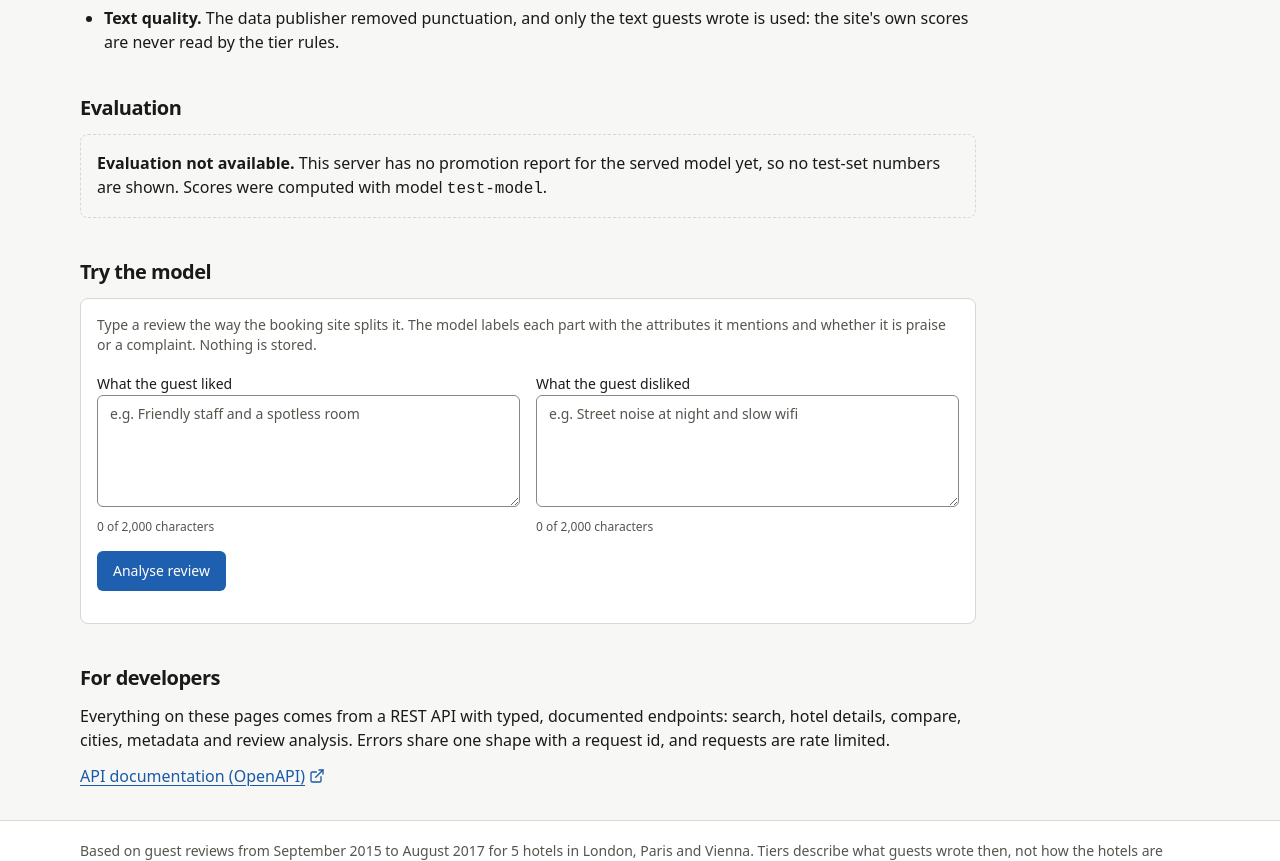
Test: Try the model › says no model is loaded on 503
(page scrolled)
Type "Nice staff" into the text box labelled "What the guest liked" at point(308, 450), box [97,394,520,506]
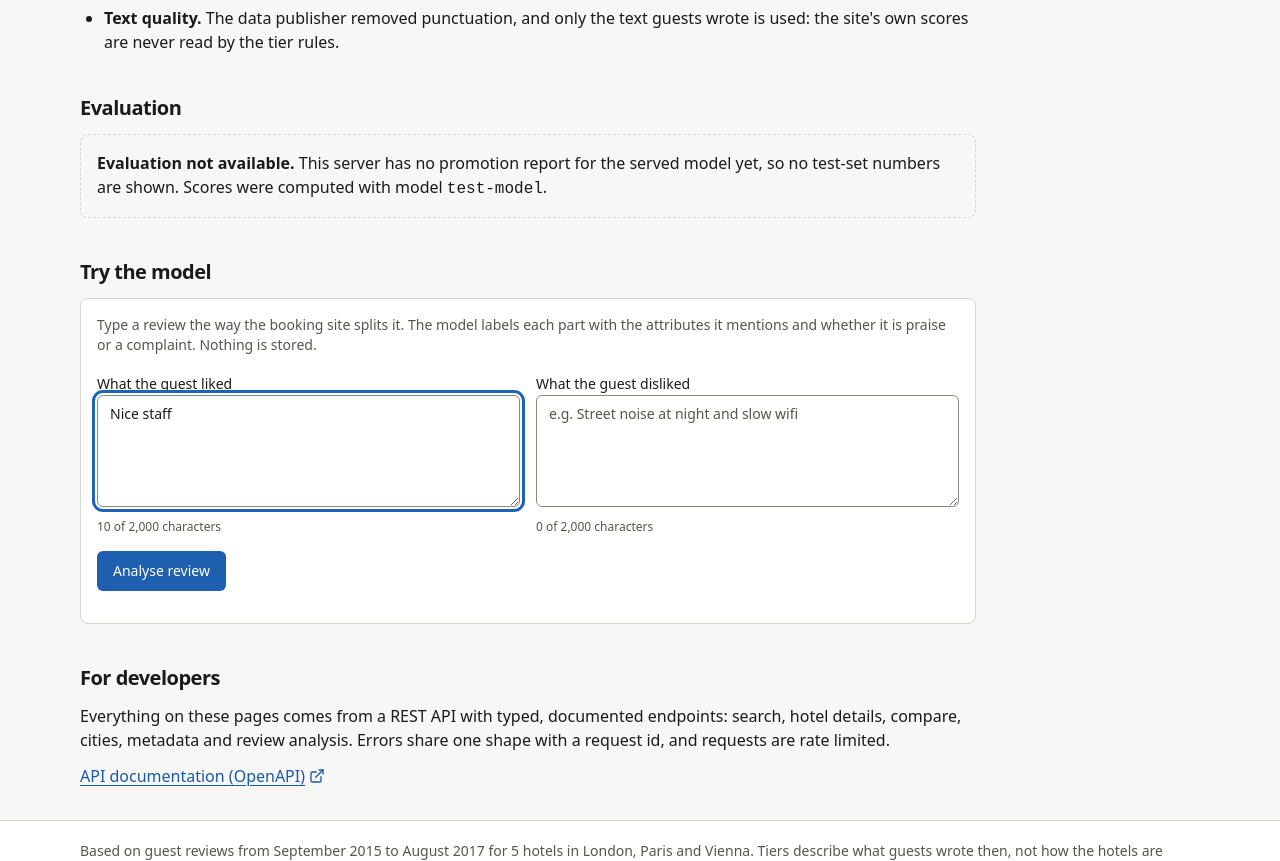
Click the button "Analyse review" at point(161, 570), box [97,550,226,590]
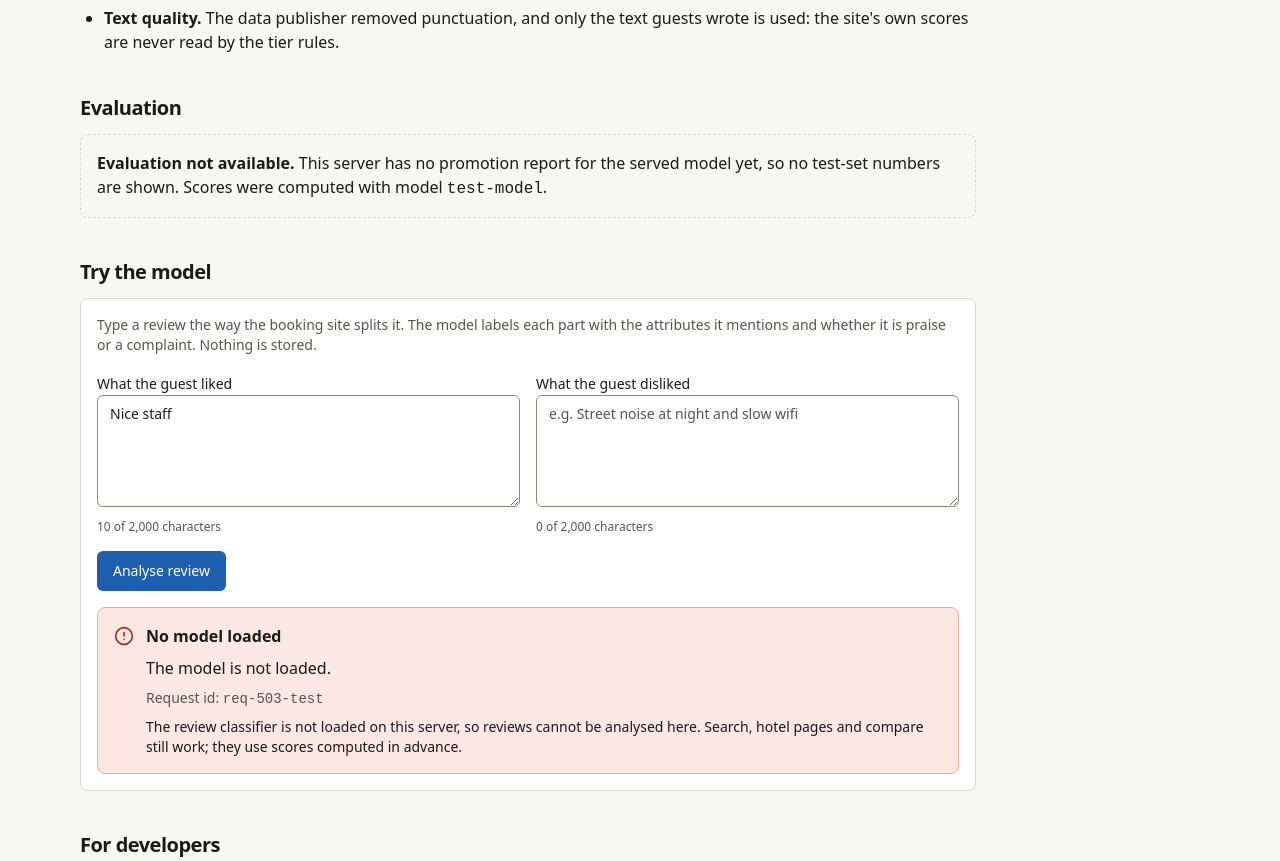
Expected: the message shows "No model loaded", [146,624,282,646]
Expected: the message shows "The model is not loaded.", [146,656,331,678]
Expected: the message shows "Search, hotel pages and compare still work", [146,716,924,756]
